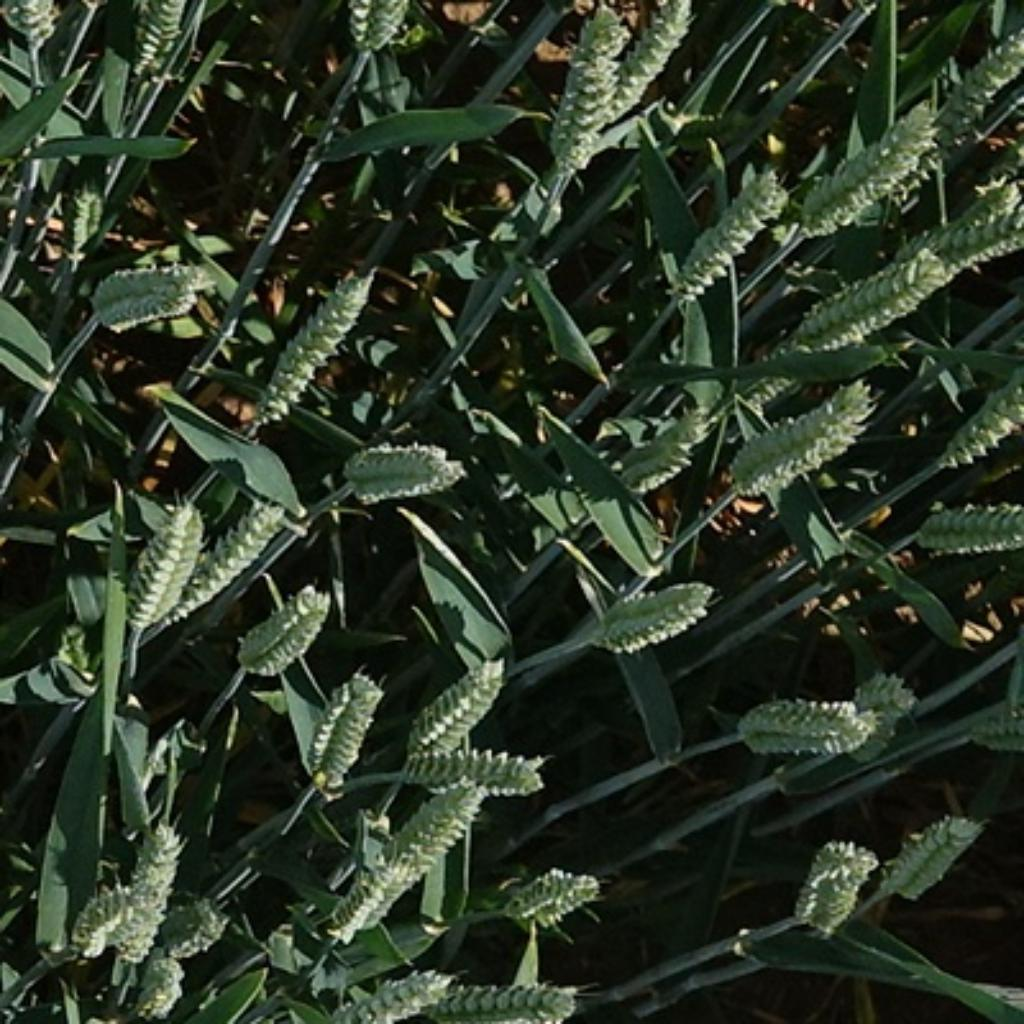0-0: (243, 253, 373, 424), (343, 778, 494, 924), (791, 94, 944, 238), (780, 238, 975, 350), (135, 494, 289, 632), (655, 153, 788, 304), (721, 376, 883, 496), (532, 2, 637, 181), (896, 161, 1024, 284), (581, 568, 724, 655), (107, 504, 202, 634), (593, 2, 691, 125), (107, 816, 186, 967), (721, 688, 883, 760), (407, 645, 514, 752), (936, 25, 1024, 153), (74, 250, 220, 327), (880, 801, 995, 898), (230, 573, 340, 673), (299, 660, 384, 788), (788, 829, 883, 934), (295, 963, 458, 1024), (335, 430, 468, 504), (616, 396, 714, 494), (413, 970, 587, 1024), (494, 855, 614, 931), (929, 376, 1024, 468), (317, 852, 412, 939), (407, 737, 550, 793), (908, 494, 1024, 563), (842, 660, 924, 742), (117, 936, 197, 1018), (156, 885, 235, 965), (56, 885, 125, 972), (335, 0, 420, 64), (128, 2, 184, 84), (61, 184, 112, 253), (12, 2, 61, 48)
